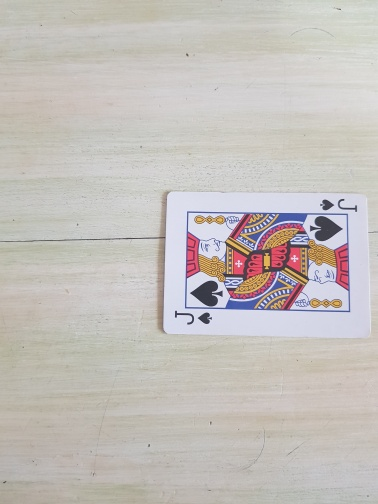jack: (161, 190, 373, 340)
